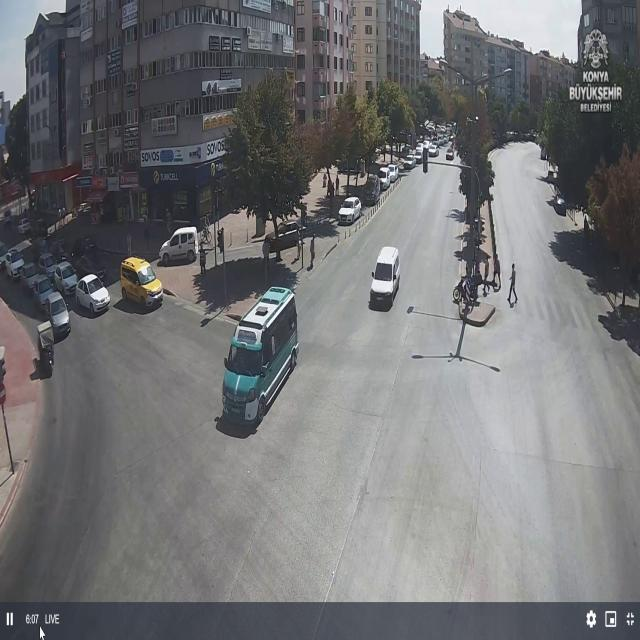Car: (76, 269, 108, 316), (266, 222, 305, 252), (26, 273, 58, 309), (50, 261, 80, 296), (46, 294, 70, 328), (18, 262, 44, 293), (2, 250, 25, 280), (338, 196, 362, 224), (38, 253, 58, 273), (376, 167, 392, 188), (385, 164, 399, 182), (17, 218, 31, 234), (400, 156, 416, 169), (428, 146, 439, 157), (446, 150, 454, 160)
Cycle: (447, 274, 487, 318), (34, 320, 54, 378)
Van: (214, 290, 308, 434), (120, 256, 163, 307), (369, 246, 400, 308), (158, 227, 200, 265)
